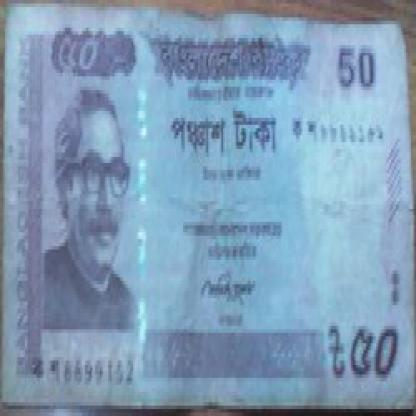Fifty taka: (346, 322, 403, 406), (57, 17, 96, 87)
